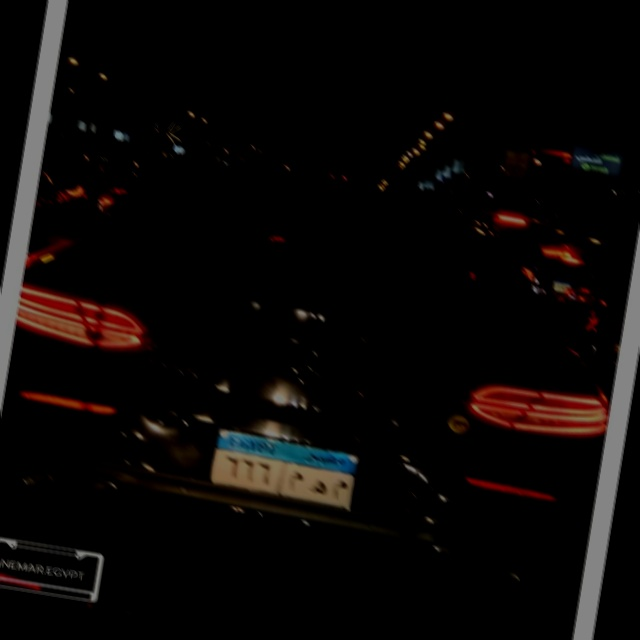License Plate: (205, 424, 363, 512)
